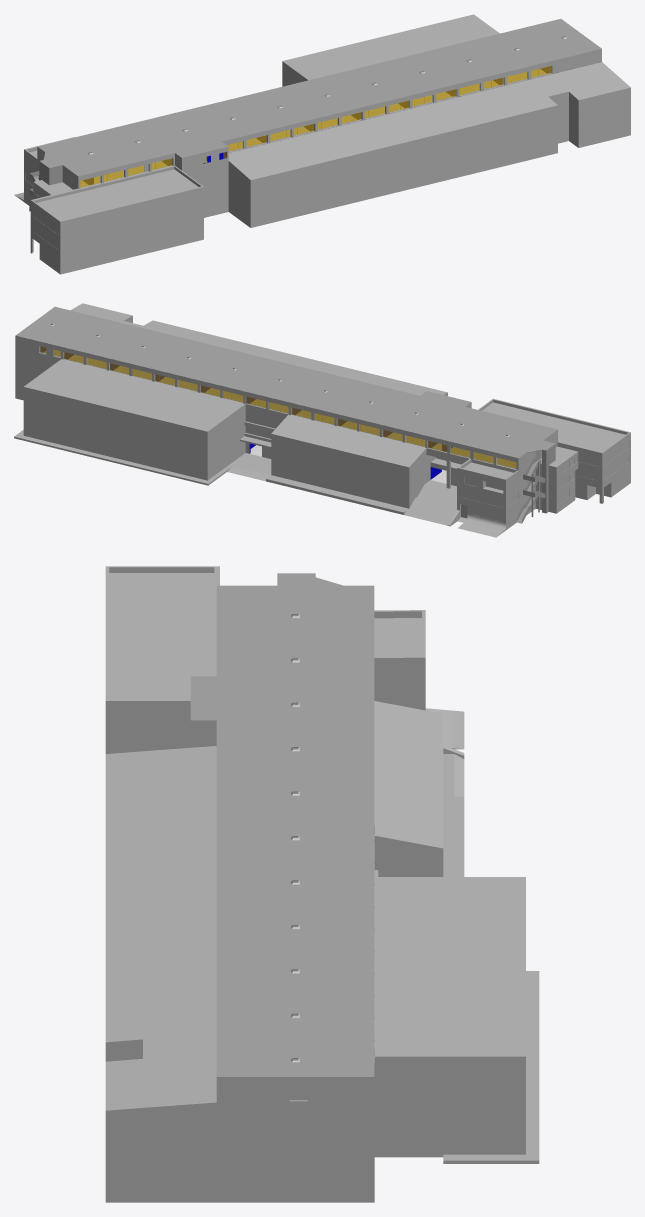
Rendered from blockingColores.fbx.
3 views of the same model, one above another, from view 1: azimuth 30°, elevation 25°; view 2: azimuth 150°, elevation 25°; view 3: azimuth 270°, elevation 25° (orthographic). The views are drawn at different scales.
Parts seen in each view (by area): view 1: VolTrasero, techoExterior, VolTraseroTerraza, VolGimnasio, envolventeP3, suelo_planta_3, paredTrasera, VolLadEsc, huecoEscalerasExteriores, VolExtEsc; view 2: techoExterior, VolGimnasio, VolVerdeEsc, VolTraseroTerraza, envolventeP3, paredTrasera, VolLadEsc, VolTrasero, suelo_planta_3, VolExtEsc, escExt_T3, VolEntrada (+2 smaller); view 3: techoExterior, VolTrasero, VolGimnasio, VolTraseroTerraza, paredTrasera, VolVerdeEsc, VolLadEsc, envolventeP3, escExt_T3.
Boxes of the visible parts, x1,y1,x2,y2 form: VolTrasero: (228,62,630,227); techoExterior: (38,19,601,176); VolTraseroTerraza: (30,165,203,274); VolGimnasio: (282,14,499,86); envolventeP3: (37,48,601,189); suelo_planta_3: (80,69,545,186); paredTrasera: (187,164,228,217); VolLadEsc: (14,137,76,206); huecoEscalerasExteriores: (39,152,62,185); VolExtEsc: (33,180,72,199); techoExterior: (16,306,557,458); VolGimnasio: (23,359,245,480); VolVerdeEsc: (266,414,426,514); VolTraseroTerraza: (478,398,630,503); envolventeP3: (15,335,557,470); paredTrasera: (14,352,284,485); VolLadEsc: (447,442,557,537); VolTrasero: (70,303,447,395); suelo_planta_3: (44,350,515,467); VolExtEsc: (535,446,578,513); escExt_T3: (404,484,456,525); VolEntrada: (425,452,465,492); techoExterior: (190,585,374,1076); VolTrasero: (105,746,216,1202); VolGimnasio: (374,877,525,1157); VolTraseroTerraza: (105,566,219,753); paredTrasera: (216,870,539,1202); VolVerdeEsc: (374,701,464,876); VolLadEsc: (374,610,464,758); envolventeP3: (190,720,374,1109); escExt_T3: (443,754,464,796).
Size of the model in its own units: 11924 by 1386 by 4085.
